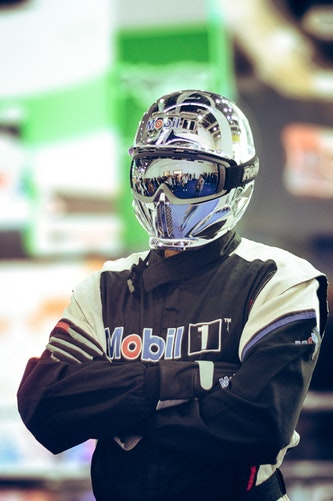helmet: (125, 95, 264, 245)
